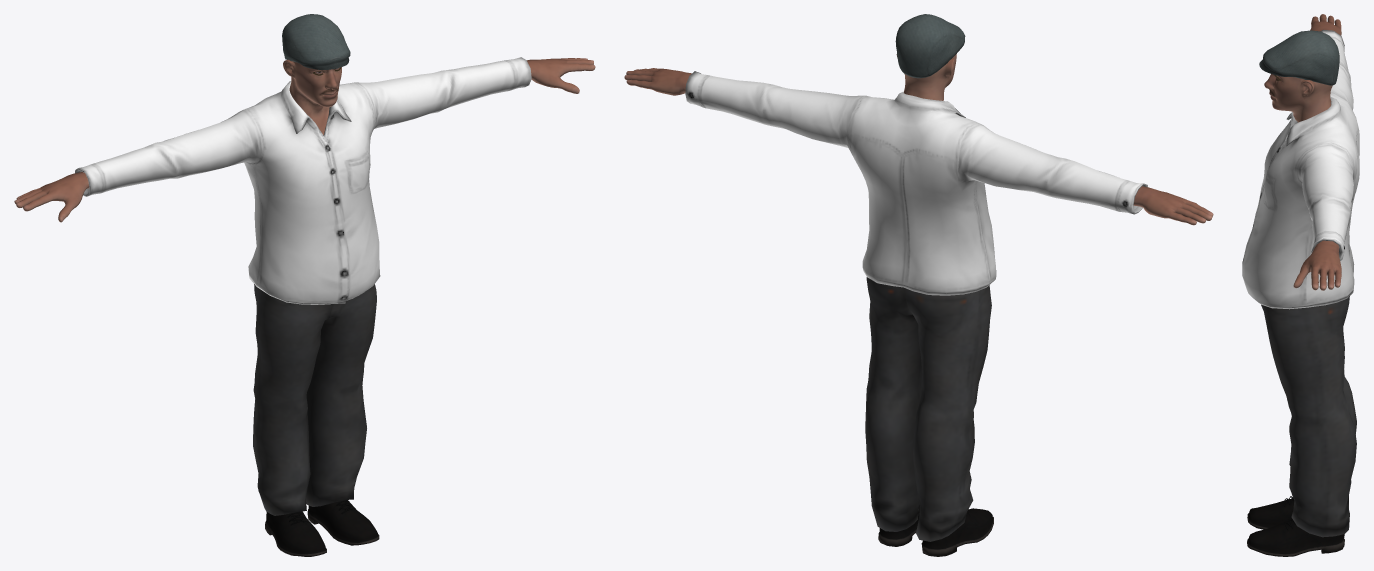
File: OfficerM.obj
3 views of the same model, side by side, from view 1: azimuth 30°, elevation 25°; view 2: azimuth 150°, elevation 25°; view 3: azimuth 270°, elevation 25° (orthographic). The views are drawn at different scales.
Parts seen in each view (by area): view 1: Tops, Bottoms, Body, Shoes, Hats; view 2: Tops, Bottoms, Body, Hats, Shoes; view 3: Tops, Bottoms, Body, Shoes, Hats.
Part boxes in pixels (x1,y1,x2,y2): Tops: [75, 57, 531, 304]; Bottoms: [253, 284, 376, 515]; Body: [14, 58, 595, 222]; Shoes: [265, 500, 379, 556]; Hats: [282, 14, 350, 69]; Tops: [685, 71, 1147, 295]; Bottoms: [865, 277, 991, 541]; Body: [624, 53, 1213, 225]; Hats: [895, 14, 965, 78]; Shoes: [878, 506, 993, 556]; Tops: [1242, 29, 1359, 309]; Bottoms: [1261, 296, 1356, 537]; Body: [1264, 14, 1341, 290]; Shoes: [1247, 496, 1344, 556]; Hats: [1259, 30, 1339, 85].
Bounding box in the file's own units: 2.13 × 1.81 × 0.3835.
Materials: 1 (1 with a texture image).
